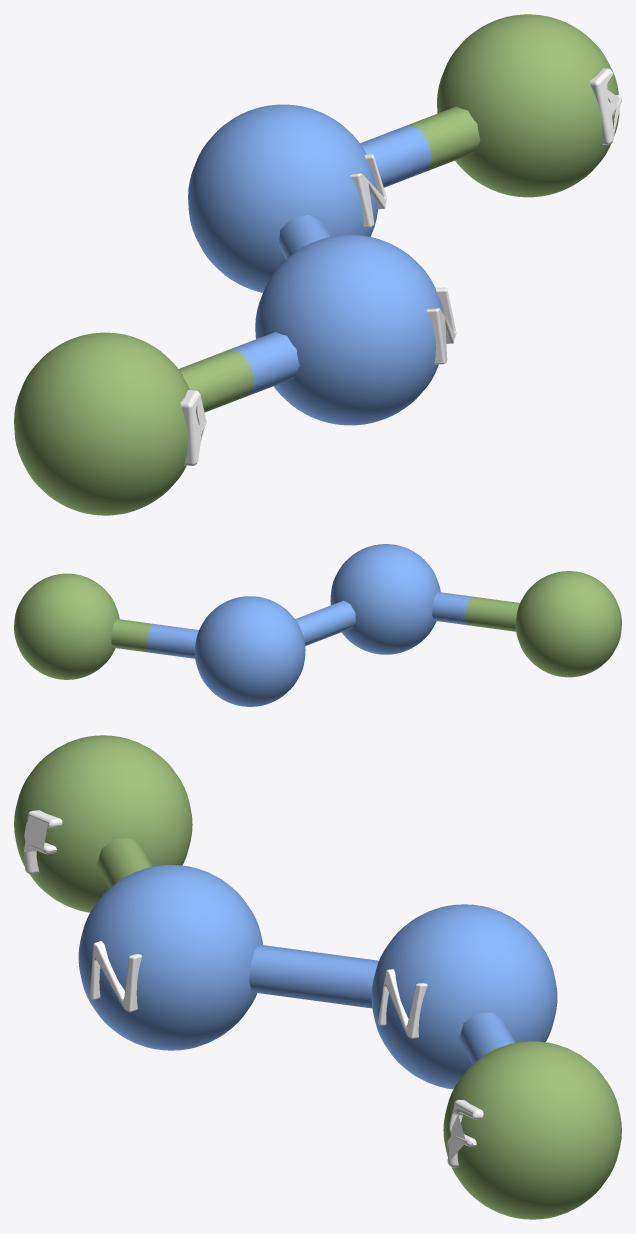
The model's file is difluorodiazene.fbx.
3 views of the same model, one above another, from view 1: azimuth 30°, elevation 25°; view 2: azimuth 150°, elevation 25°; view 3: azimuth 270°, elevation 25° (orthographic). The views are drawn at different scales.
Visible parts, largest first — view 1: difluorodiazene.051; view 2: difluorodiazene.051; view 3: difluorodiazene.051.
Boxes of the visible parts, bbox=[...] form: difluorodiazene.051: bbox=[14, 14, 621, 515]; difluorodiazene.051: bbox=[14, 544, 621, 706]; difluorodiazene.051: bbox=[14, 735, 621, 1219].
Size of the model in its own units: 364 by 75.11 by 246.
